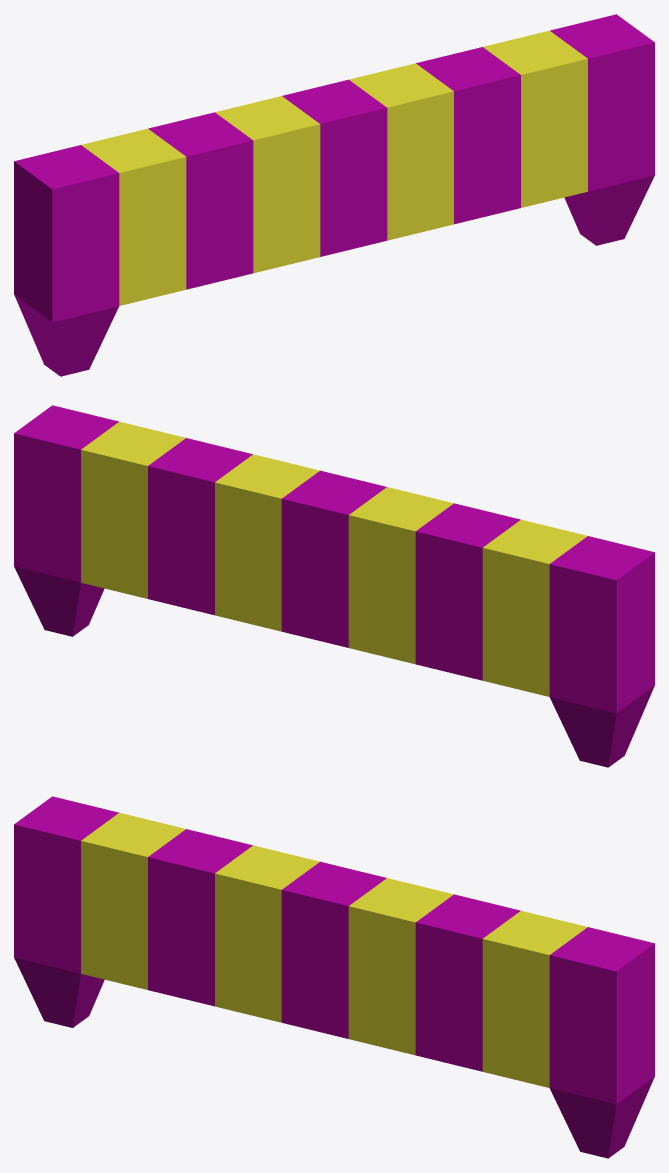
Rendered from RWBarrierLow.fbx.
The picture shows the model from 3 angles, top to bottom: view 1: azimuth 30°, elevation 25°; view 2: azimuth 150°, elevation 25°; view 3: azimuth 330°, elevation 25°; orthographic projection.
Visible parts, largest first — view 1: Cube; view 2: Cube; view 3: Cube.
Boxes of the visible parts, <box> form: Cube: <box>14,14,654,376</box>; Cube: <box>14,405,654,767</box>; Cube: <box>14,796,654,1158</box>.
Bounding box in the file's own units: 800 × 254 × 88.43.
